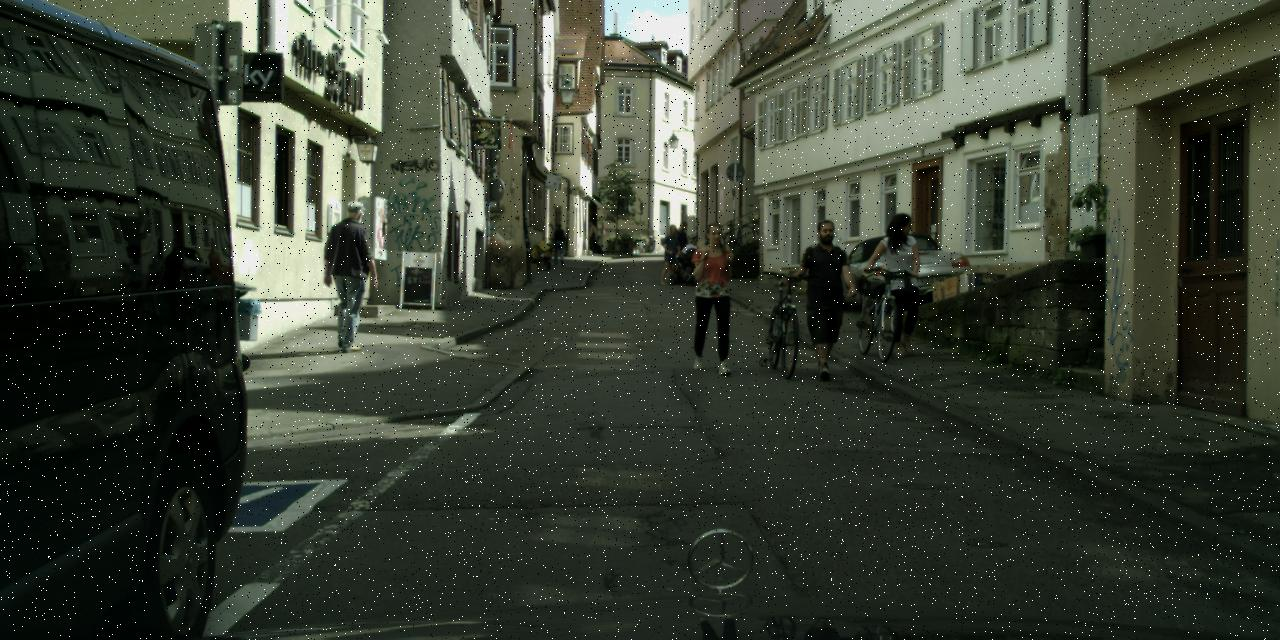ped: (793, 220, 857, 374), (683, 222, 743, 372), (322, 201, 382, 350), (874, 212, 932, 353), (657, 223, 682, 283), (670, 221, 692, 277), (550, 222, 567, 264), (585, 221, 598, 254)
